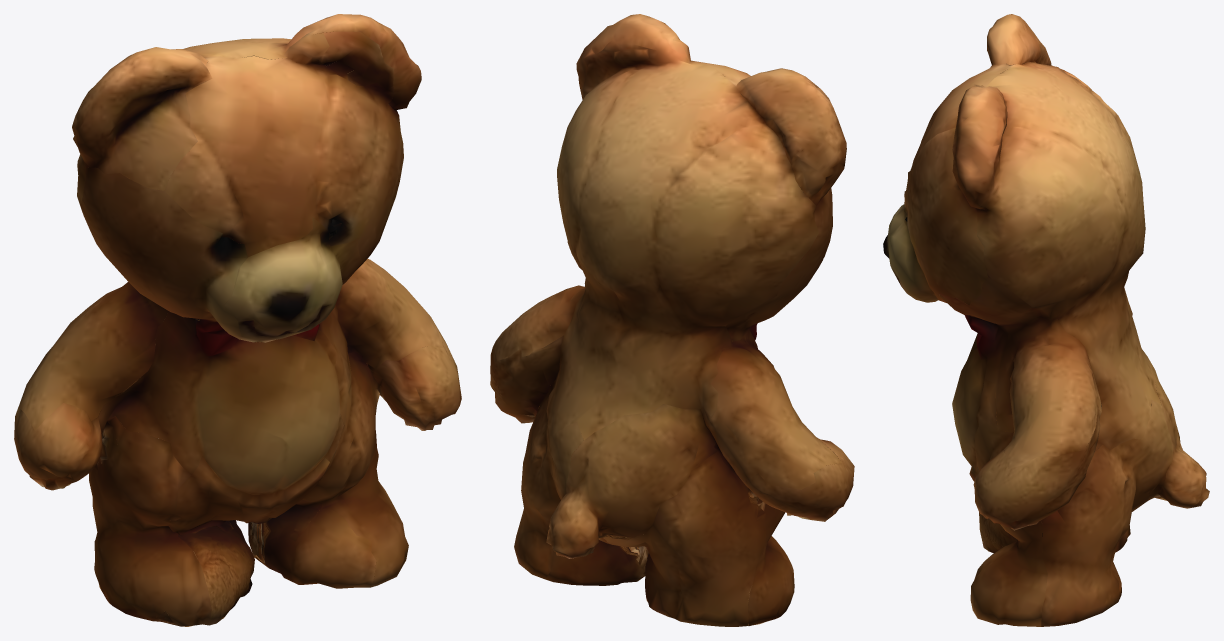
The model's file is obj_craft_teddy_bear_photogramme.glb.
3 views of the same model, side by side, from view 1: azimuth 30°, elevation 25°; view 2: azimuth 150°, elevation 25°; view 3: azimuth 270°, elevation 25° (orthographic). The views are drawn at different scales.
Visible parts, largest first — view 1: Model.001_material0.001_0; view 2: Model.001_material0.001_0; view 3: Model.001_material0.001_0.
Part boxes in pixels (left/top/right/bottom): Model.001_material0.001_0: left=14, top=14, right=461, bottom=626; Model.001_material0.001_0: left=490, top=14, right=854, bottom=626; Model.001_material0.001_0: left=883, top=14, right=1209, bottom=626.
Size of the model in its own units: 0.2344 by 0.32 by 0.1857.
1 material, 1 textured.
